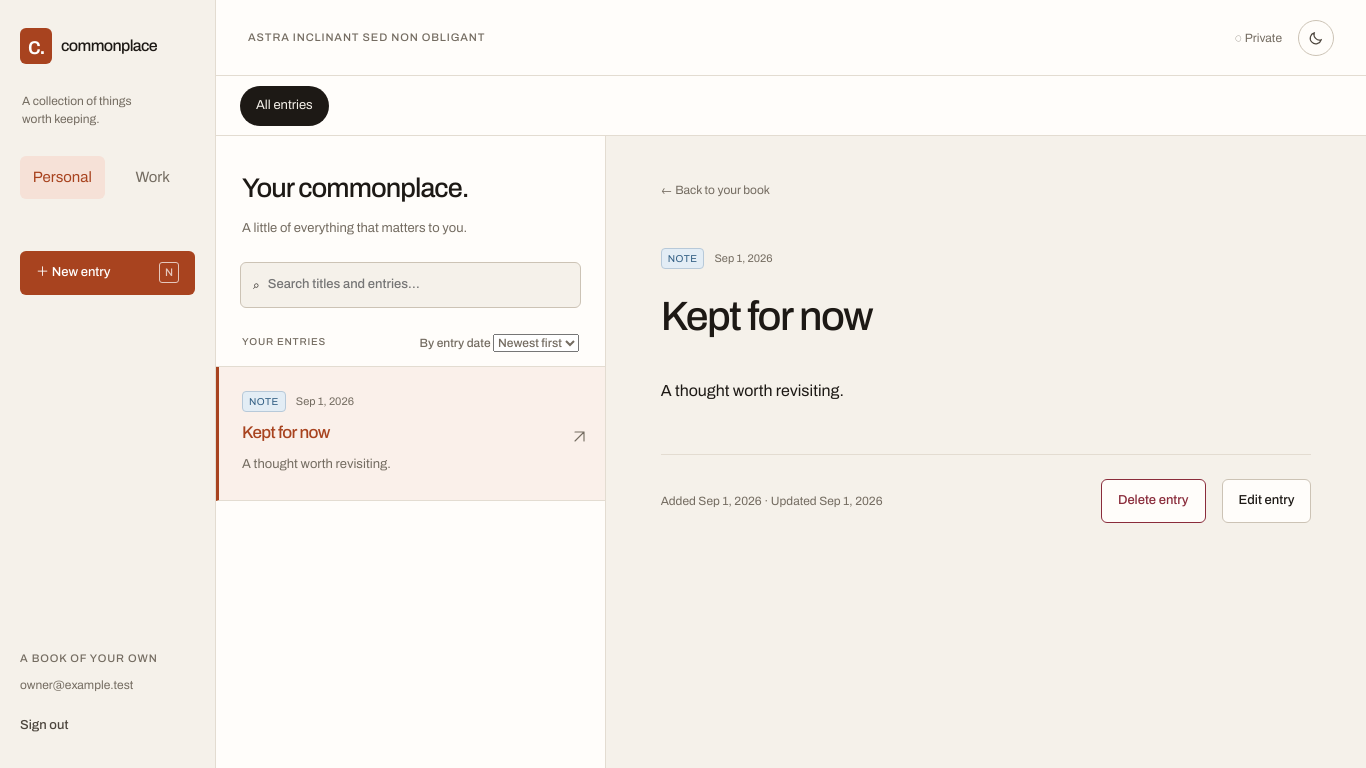
Test case: keeps the entry and shows the error when delete fails
Check: the heading "Kept for now" below "← Back to your book" is shown, box [661, 294, 872, 339]
Click the button "Delete entry". click: point(1153, 501)
box: [1101, 479, 1206, 523]
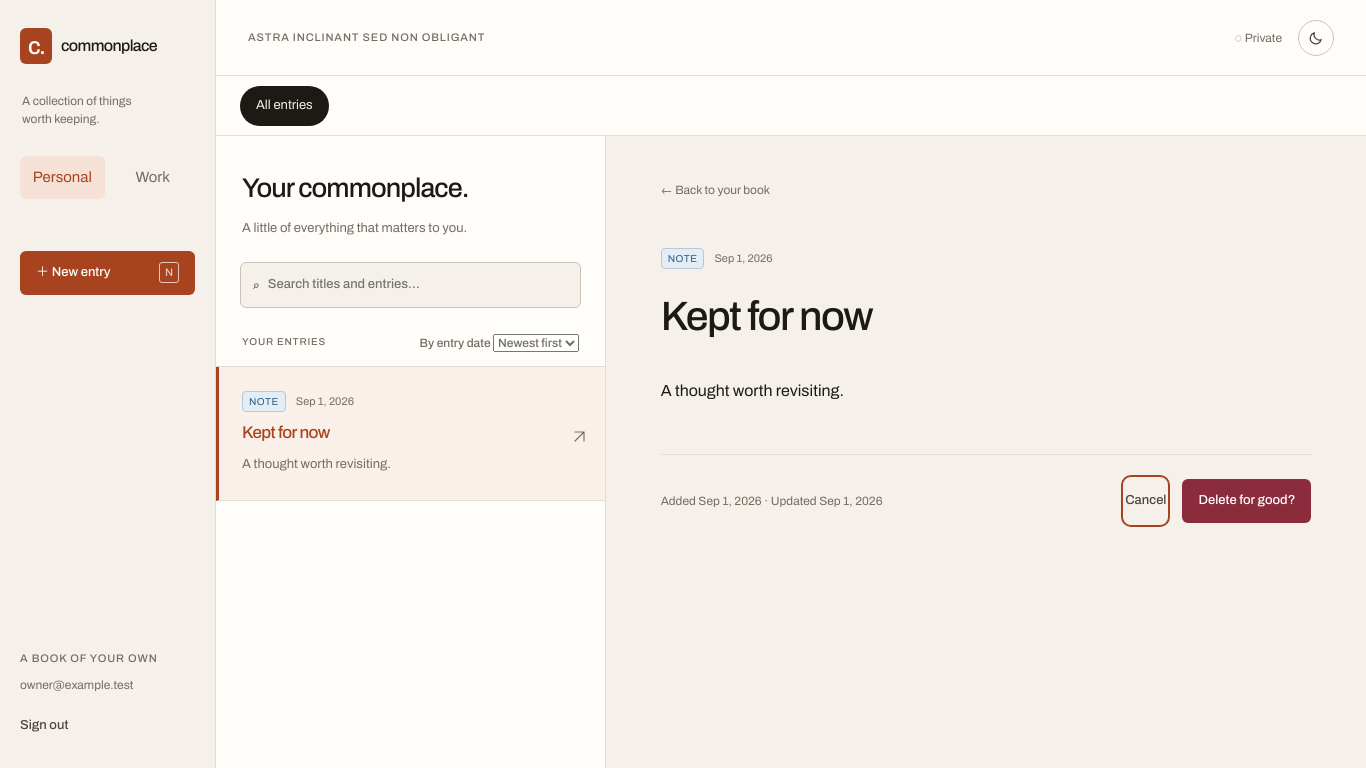
Click the button "Delete for good?". click: point(1247, 501)
box: [1182, 479, 1311, 523]
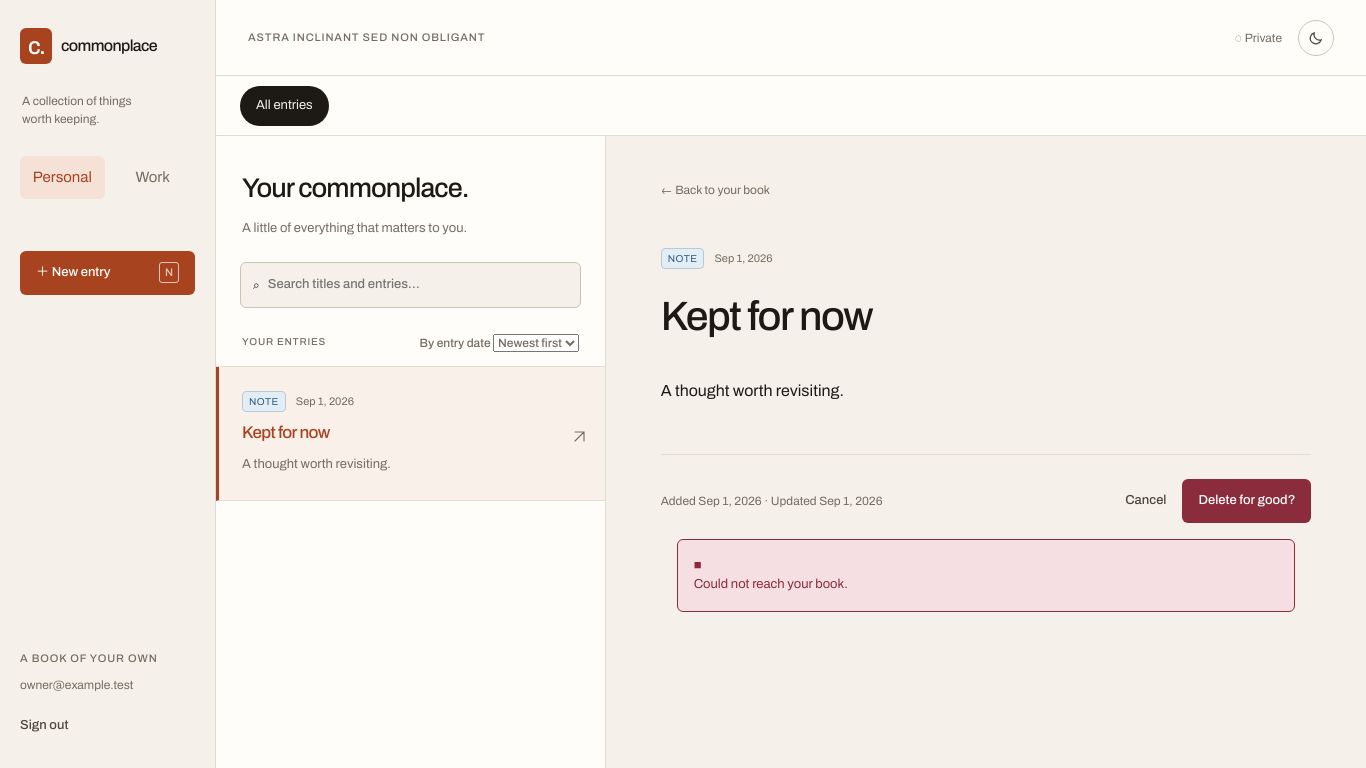
Check: the heading "Kept for now" below "← Back to your book" is shown, box [661, 294, 872, 339]
Check: the button "Delete for good?" is shown, box [1182, 479, 1311, 523]
Check: the message reads "Could not reach your book.", box [694, 577, 848, 591]
